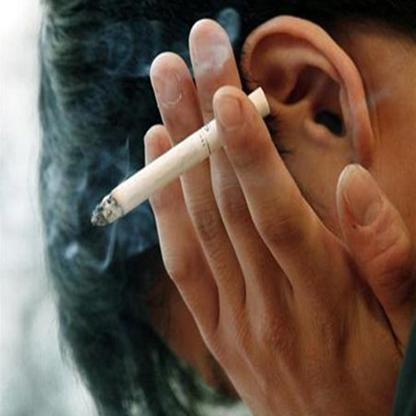trash: (88, 86, 269, 224)
